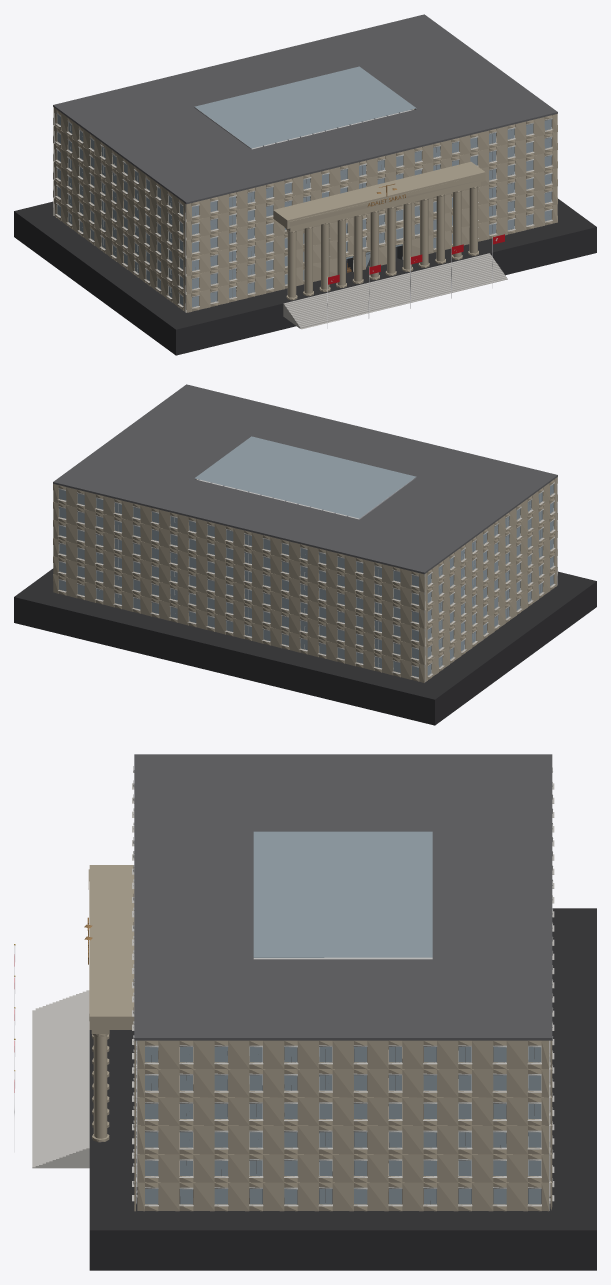
File: simge_adalet_sarayi.glb
3 views of the same model, one above another, from view 1: azimuth 30°, elevation 25°; view 2: azimuth 150°, elevation 25°; view 3: azimuth 270°, elevation 25° (orthographic). The views are drawn at different scales.
Parts seen in each view (by area): view 1: Simge_Adalet_Sarayi.001; view 2: Simge_Adalet_Sarayi.001; view 3: Simge_Adalet_Sarayi.001.
Part boxes in pixels (left/top/right/bottom): Simge_Adalet_Sarayi.001: left=14, top=14, right=596, bottom=355; Simge_Adalet_Sarayi.001: left=14, top=384, right=596, bottom=725; Simge_Adalet_Sarayi.001: left=14, top=754, right=596, bottom=1270.
Size of the model in its own units: 102 by 31.85 by 78.12.
